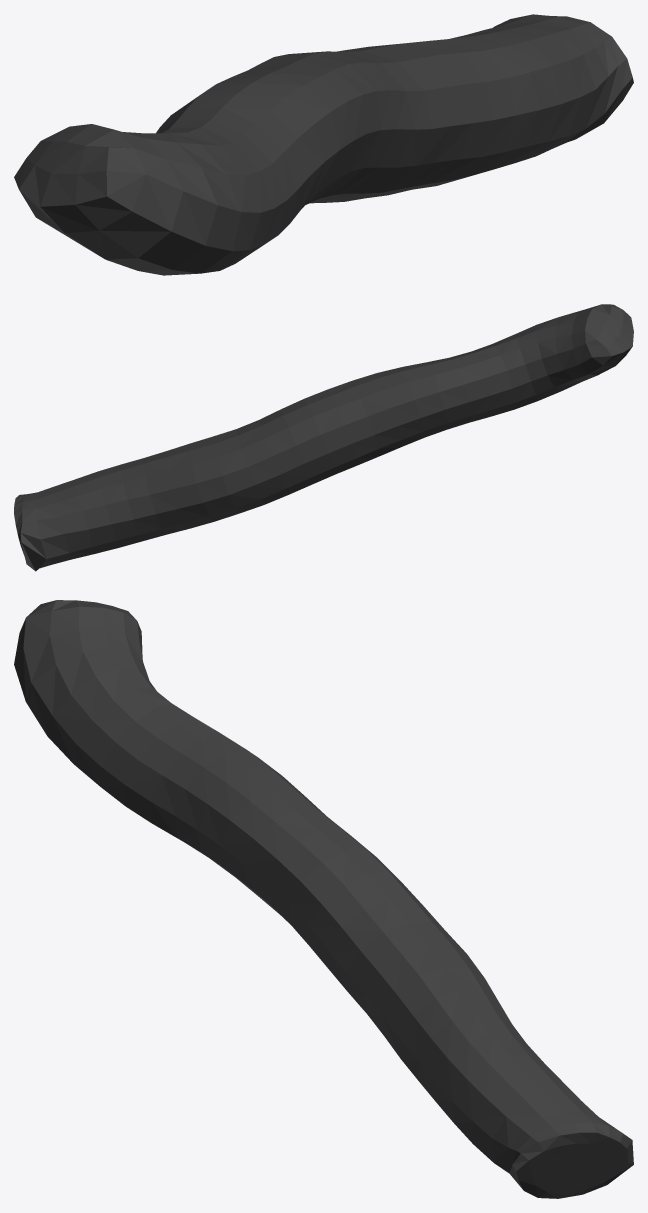
The model's file is R_sided_PULM_ARTERY_RIGHT.glb.
3 views of the same model, one above another, from view 1: azimuth 30°, elevation 25°; view 2: azimuth 150°, elevation 25°; view 3: azimuth 270°, elevation 25° (orthographic). The views are drawn at different scales.
Parts seen in each view (by area): view 1: R_sided_PULM_ARTERY_RIGHT; view 2: R_sided_PULM_ARTERY_RIGHT; view 3: R_sided_PULM_ARTERY_RIGHT.
Part boxes in pixels (<box>): R_sided_PULM_ARTERY_RIGHT: <box>14,14,633,275</box>; R_sided_PULM_ARTERY_RIGHT: <box>14,304,633,571</box>; R_sided_PULM_ARTERY_RIGHT: <box>14,600,633,1198</box>.
Size of the model in its own units: 3.8 by 1.78 by 3.1.
Materials: 1 (1 with a texture image).
